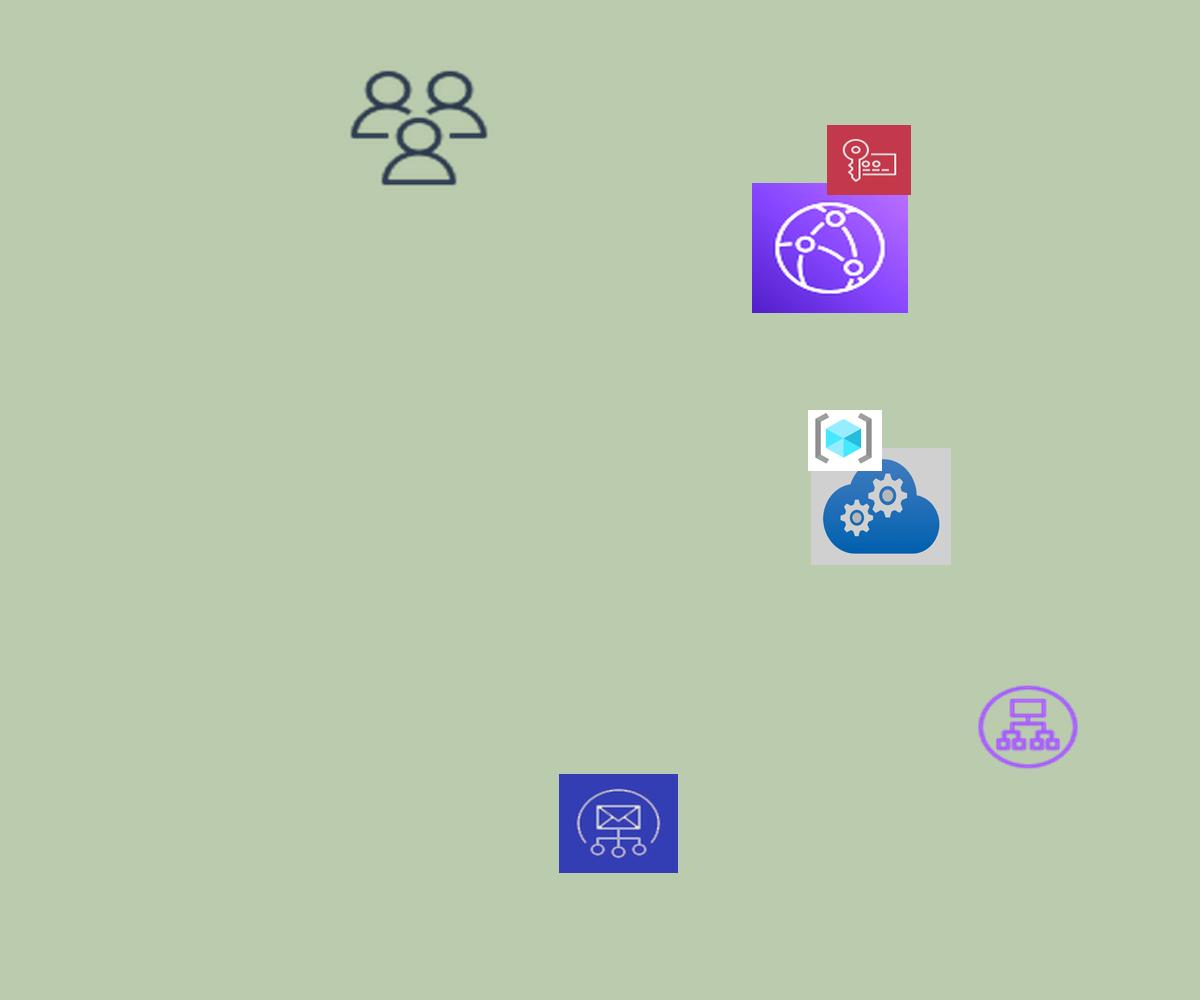AWS-CloudFront: (752, 183, 908, 313)
AWS-Key-Management-Service: (827, 125, 911, 195)
AWS-Res_Elastic-Load-Balancing_Application-Load-Balancer: (974, 682, 1082, 772)
AWS-Res_Users: (345, 66, 493, 190)
AWS-Simple-Email-Service: (559, 774, 678, 873)
Azure_cloud_services: (811, 448, 951, 565)
Azure_resource_group: (808, 410, 882, 471)
